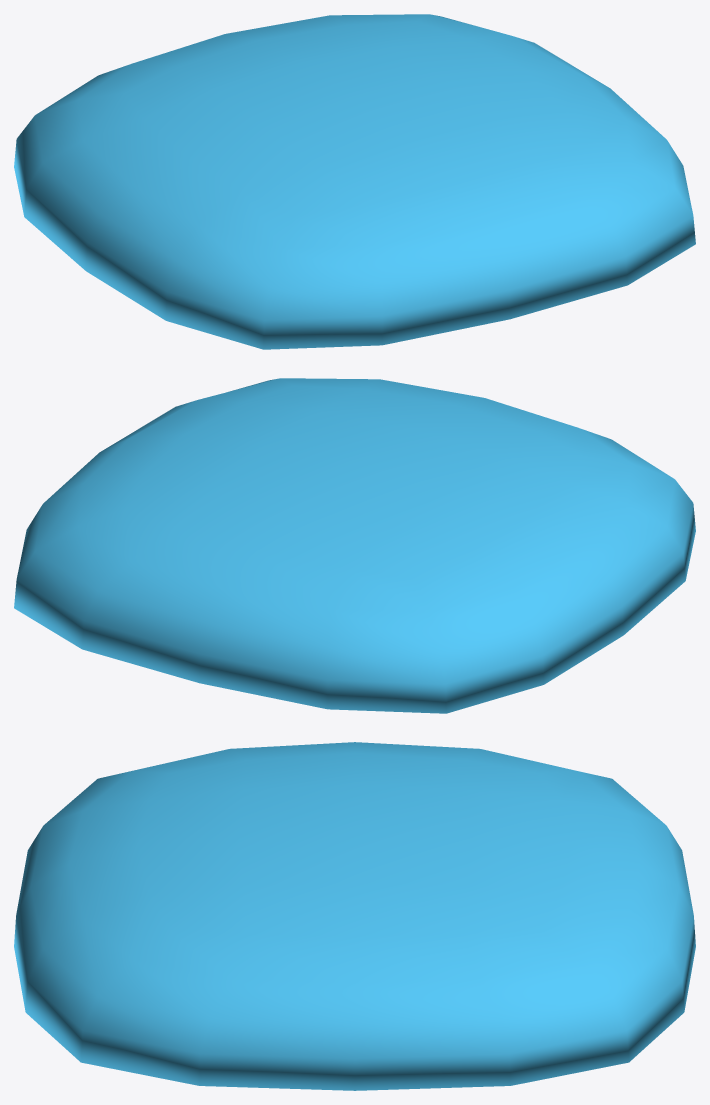
The model's file is tile_wall_half.glb.
3 views of the same model, one above another, from view 1: azimuth 30°, elevation 25°; view 2: azimuth 150°, elevation 25°; view 3: azimuth 270°, elevation 25° (orthographic). The views are drawn at different scales.
Visible parts, largest first — view 1: Cube.004; view 2: Cube.004; view 3: Cube.004.
Boxes of the visible parts, bbox=[...] form: Cube.004: bbox=[14, 14, 695, 349]; Cube.004: bbox=[14, 378, 695, 713]; Cube.004: bbox=[14, 742, 695, 1090].
Size of the model in its own units: 0.9753 by 0.184 by 0.9753.
